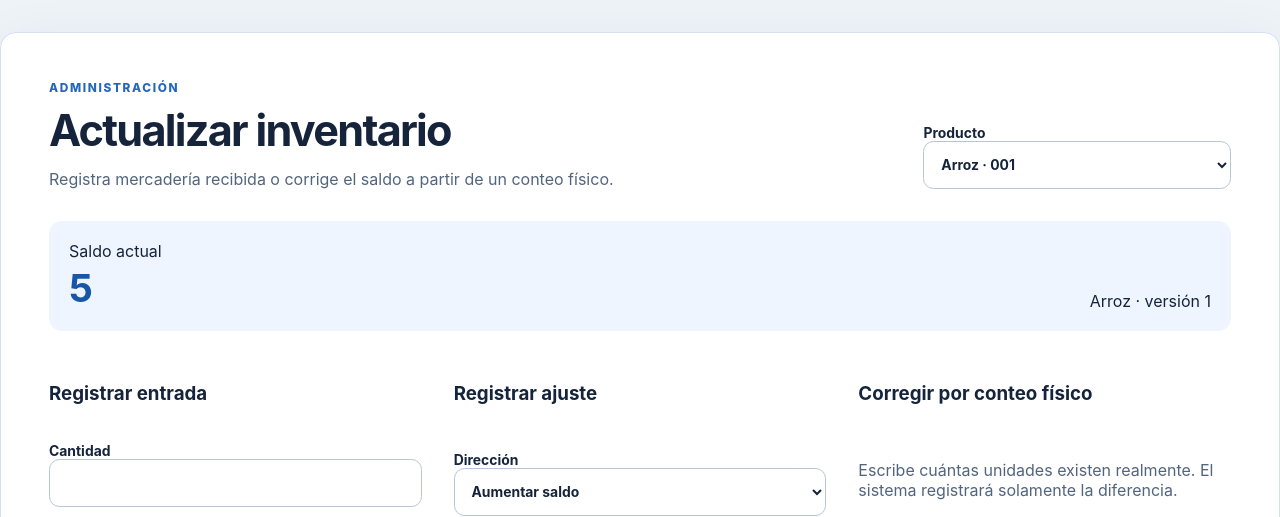
Scenario: InventoryAdmin › requires evidence and then records an entry
Step 1. Type "3" into the number field named "Cantidad de entrada" → (235, 483), box [49,459,422,507]
(page scrolled)
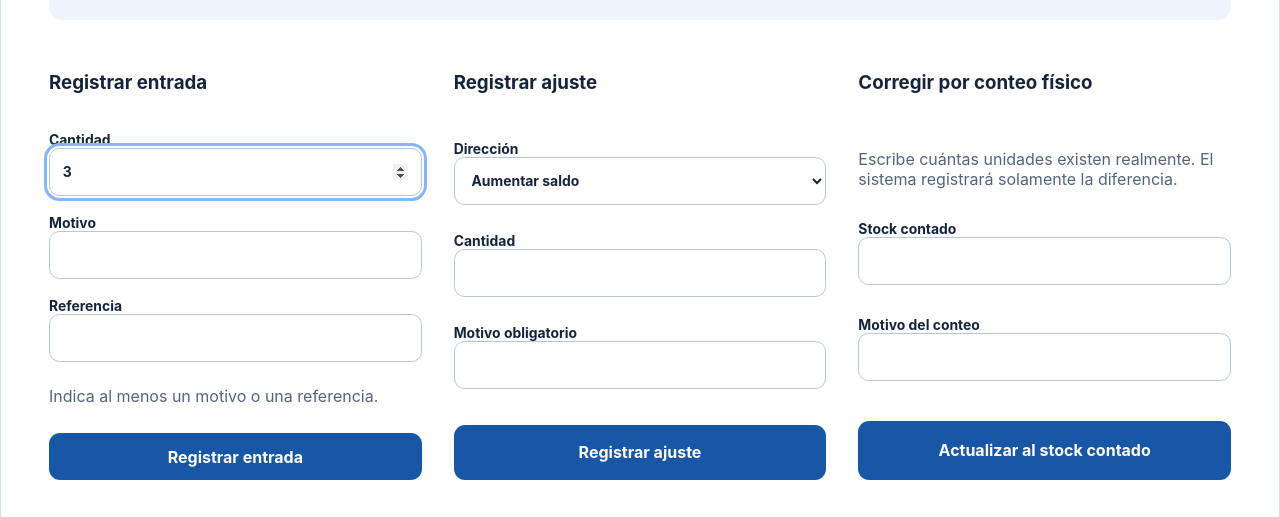
Step 2. Click the button "Registrar entrada" → click(235, 456), box [49,433,422,480]
(page scrolled)
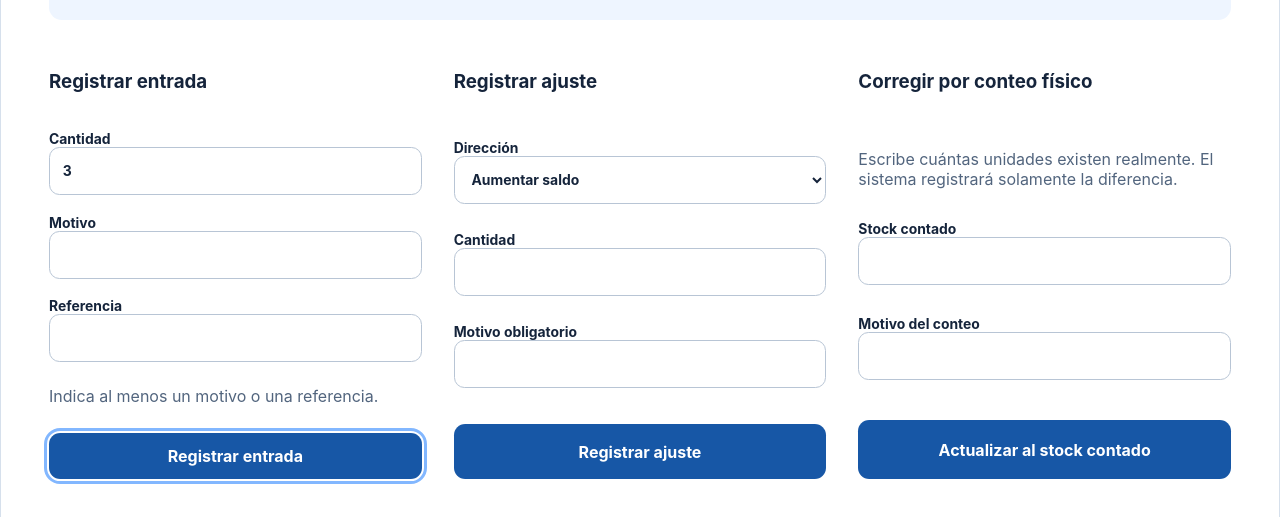
Step 3. Type "FAC-200" into the field labelled "Referencia" → (235, 338), box [49,314,422,362]
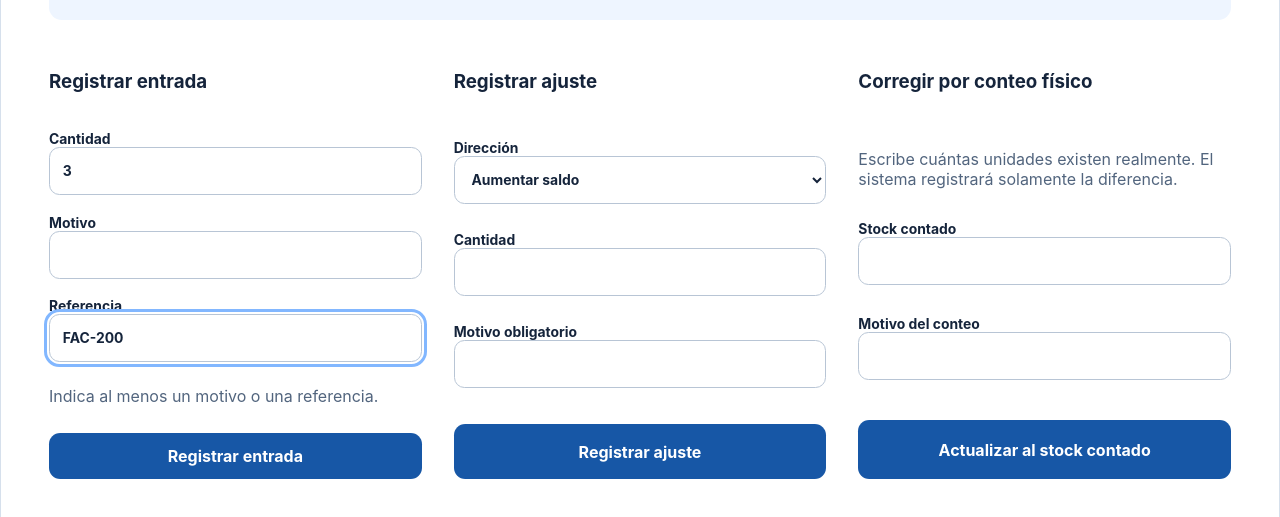
Step 4. Click the button "Registrar entrada" → click(235, 456), box [49,433,422,479]
(page scrolled)
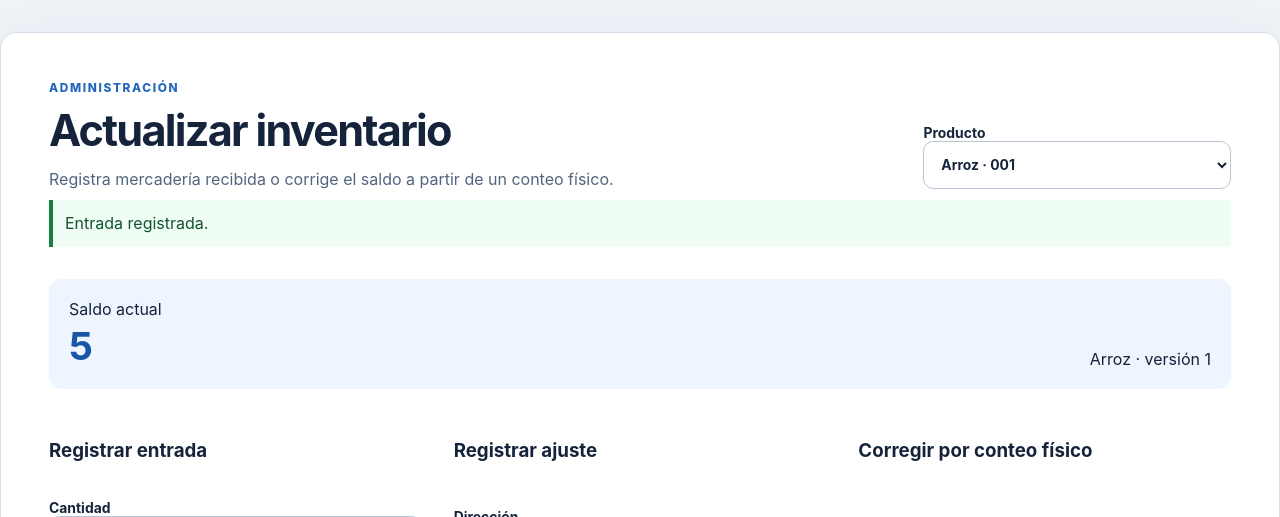
Result: the message reads "Entrada registrada." at [65,212,208,232]
